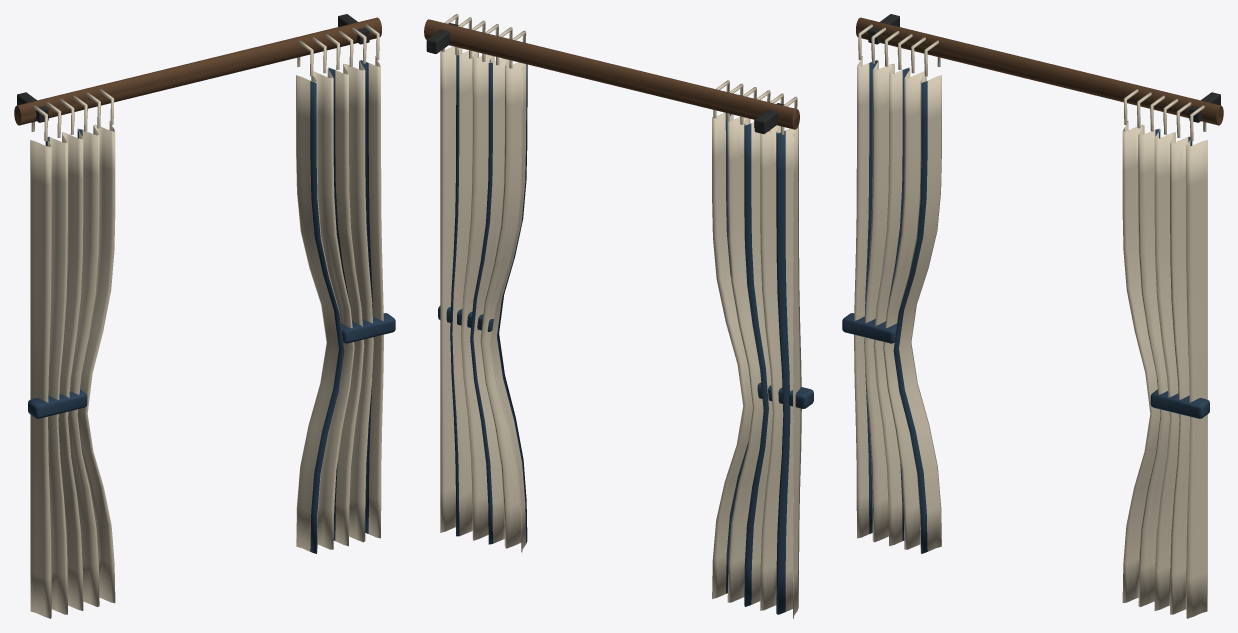
File: kominka-curtain-short-01.glb
3 views of the same model, side by side, from view 1: azimuth 30°, elevation 25°; view 2: azimuth 150°, elevation 25°; view 3: azimuth 330°, elevation 25° (orthographic). The views are drawn at different scales.
Parts seen in each view (by area): view 1: kominka-curtain-short-01; view 2: kominka-curtain-short-01; view 3: kominka-curtain-short-01.
Boxes of the visible parts, x1,y1,x2,y2 form: kominka-curtain-short-01: [14, 14, 395, 618]; kominka-curtain-short-01: [424, 14, 813, 618]; kominka-curtain-short-01: [842, 14, 1223, 618].
Bounding box in the file's own units: 0.9 × 1.2 × 0.15.
